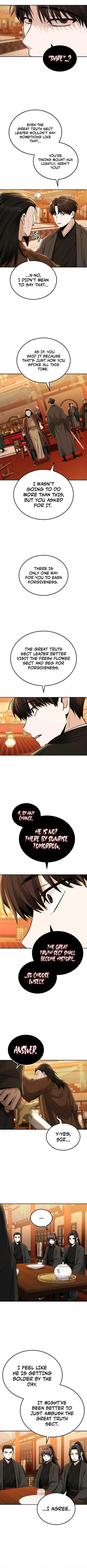bubbles: (2, 1349, 85, 1446), (7, 109, 79, 188), (17, 924, 84, 995), (11, 802, 76, 870), (10, 630, 77, 694), (12, 461, 76, 521), (16, 336, 71, 392), (9, 254, 58, 301), (17, 554, 69, 597), (36, 1488, 76, 1528), (44, 1113, 82, 1152), (7, 1034, 44, 1070), (42, 43, 78, 72), (29, 1208, 54, 1231)
